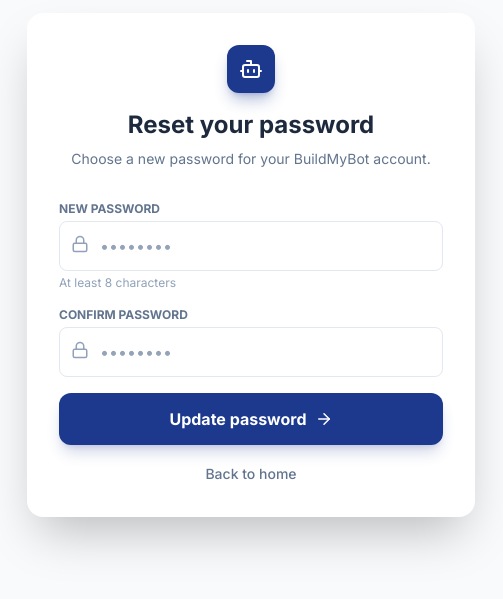
Test: ResetPasswordPage › keeps the form when the server returns a non-token error
Type "longenough" into the password field labelled "New password" at (251, 246), box [59,221,443,271]
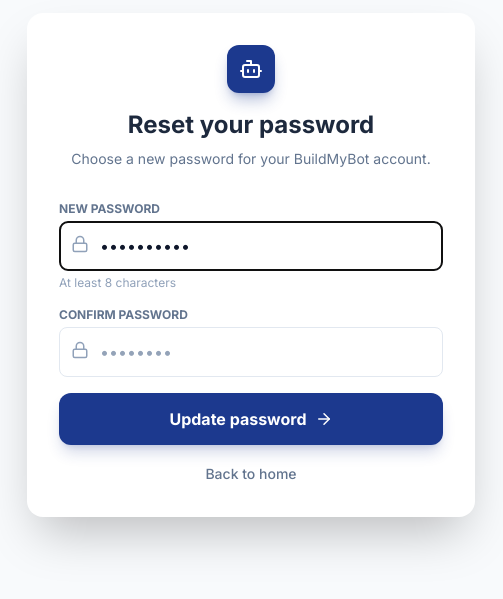
Type "longenough" into the password field labelled "Confirm password" at (251, 352), box [59,327,443,377]
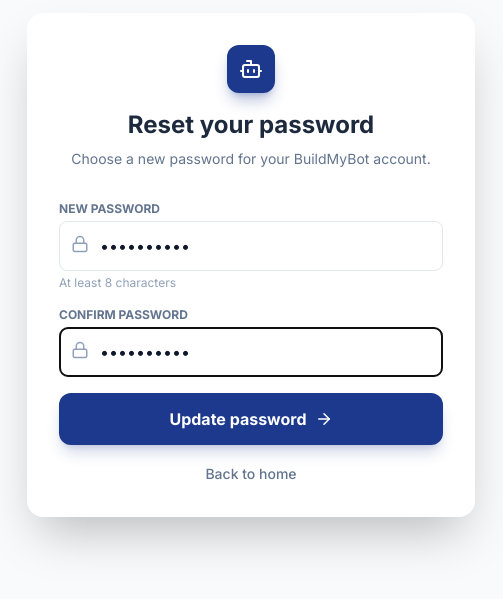
Click the button "Update password" at (251, 419), box [59,393,443,445]
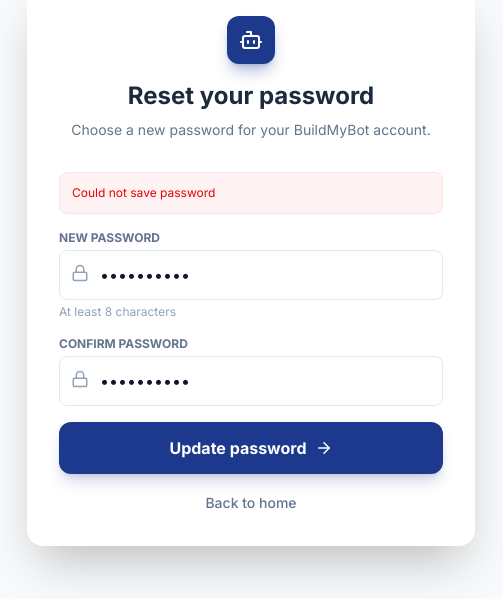
Expected: the message reads "Could not save password", [72,185,215,200]
